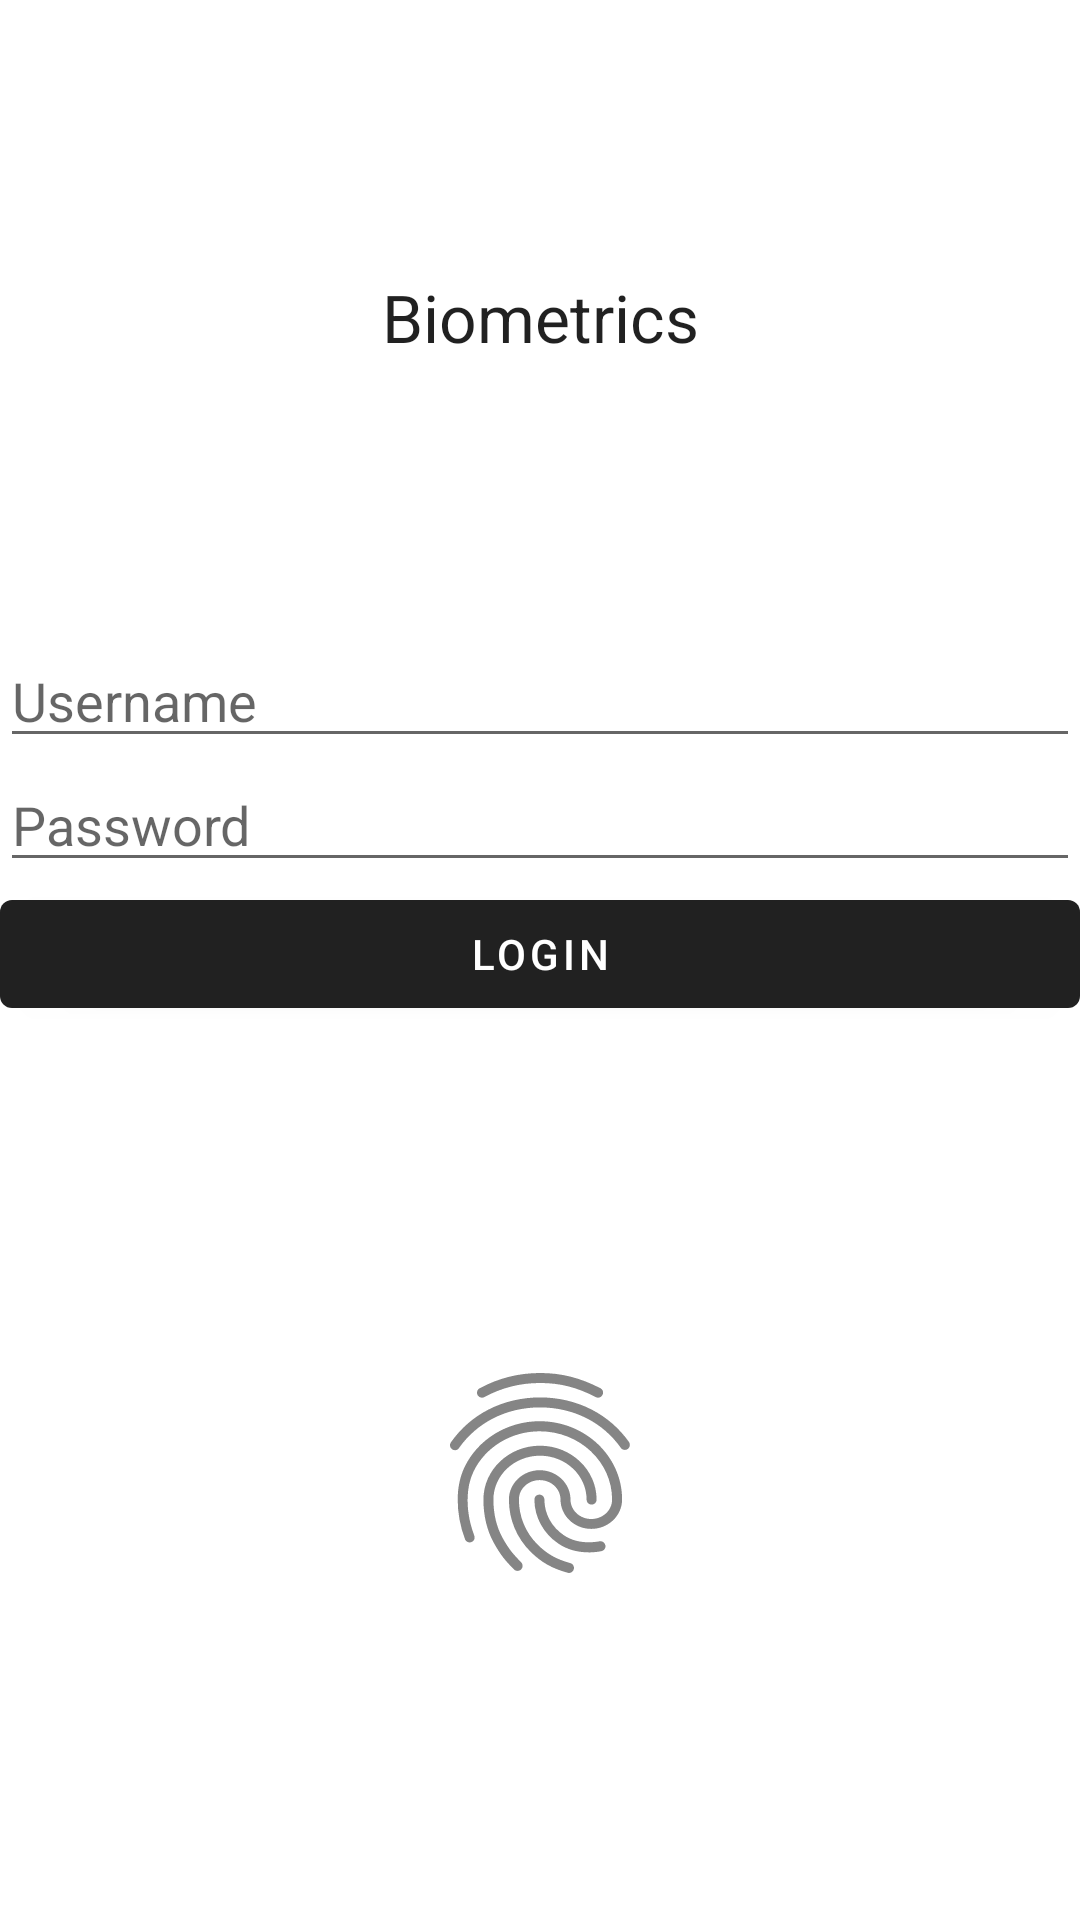

Icon click points for this 1080px x 1920px phone screenshot, format point (x, y):
fingerprint: point (540, 1473)
